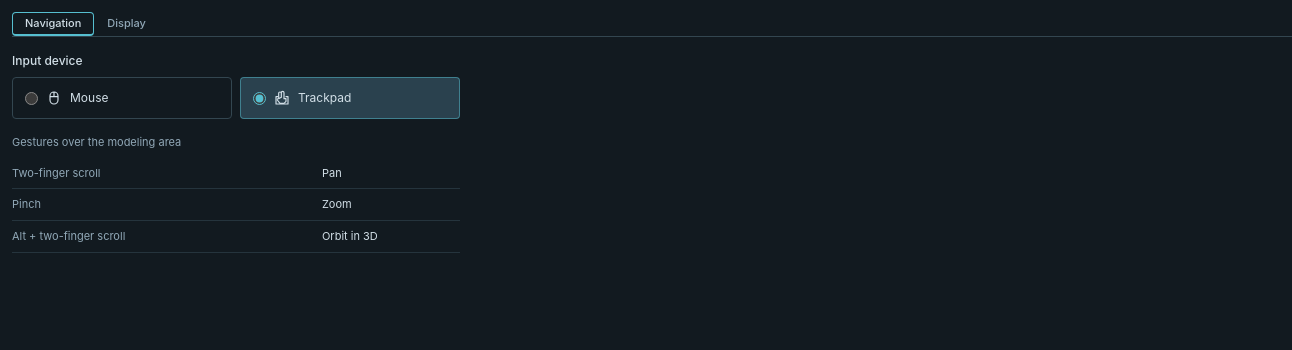
applies depth handles for the session and explains when device storage fails
Click the tab "Display": click(127, 24) top-left (94, 12), bottom-right (159, 36)
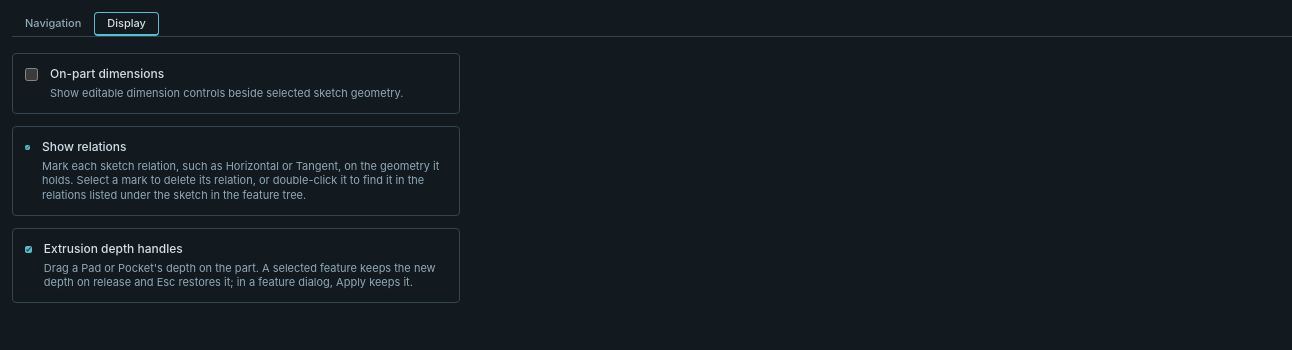
Now the label that starts with "Extrusion depth handles" is shown, box top-left (12, 228), bottom-right (460, 303)
Click the 3rd checkbox: click(28, 249) top-left (25, 243), bottom-right (32, 256)
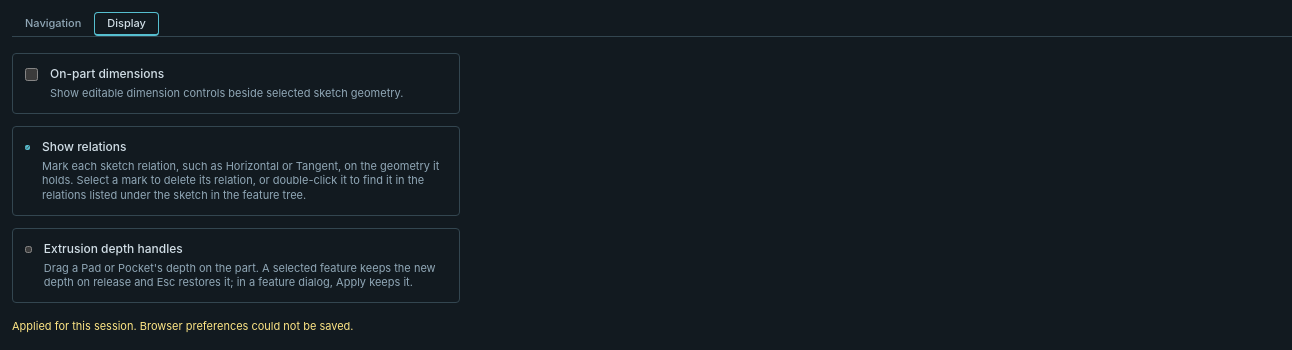
Now the 3rd checkbox is not checked, box top-left (25, 243), bottom-right (32, 256)
Now the message "Applied for this session. Browser preferences could not be saved." is shown, box top-left (12, 319), bottom-right (354, 333)
